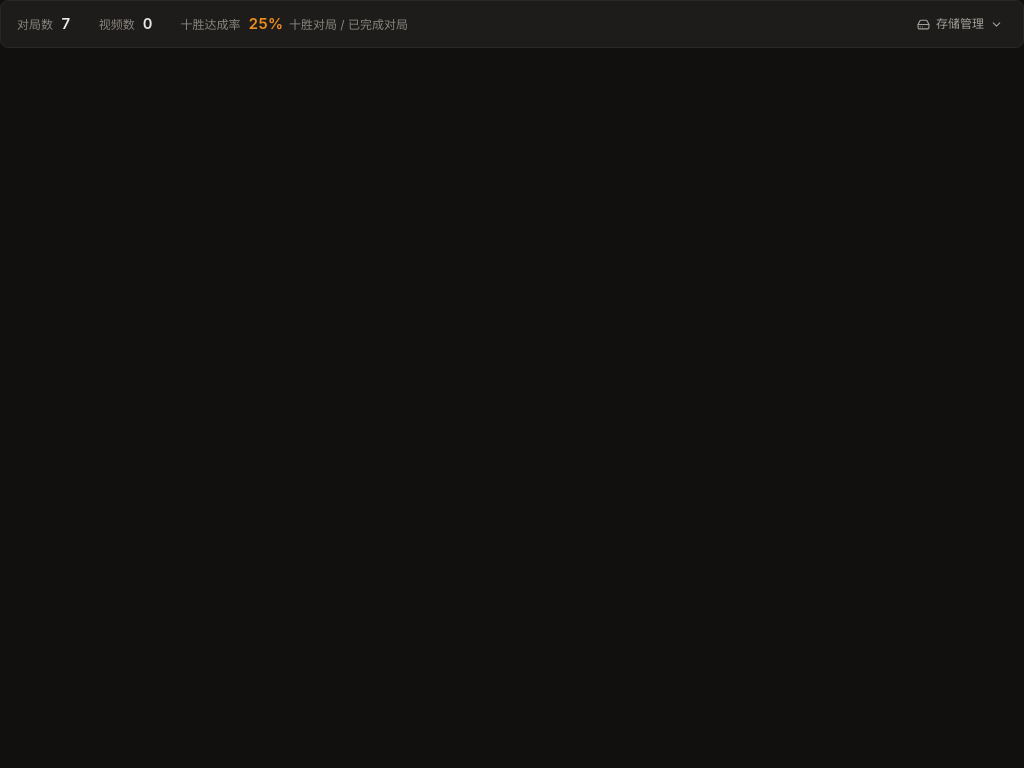
Scenario: history overview › previews the selected scope and range before any deletion can occur
Click the button "存储管理": (960, 24) [907, 11, 1013, 37]
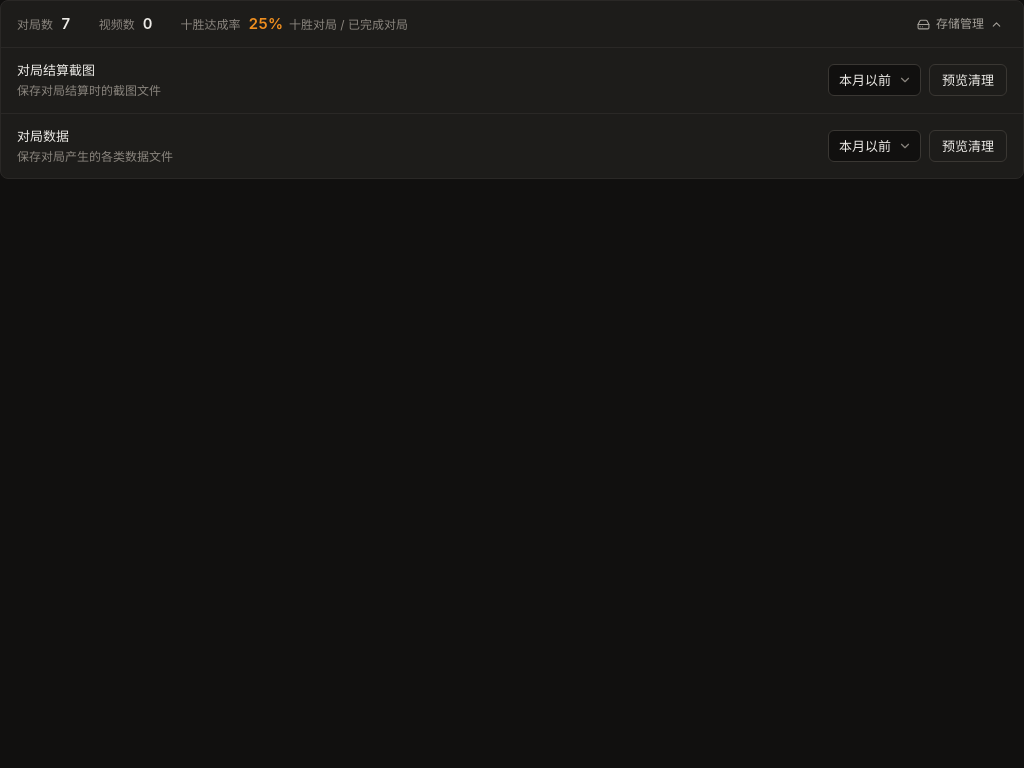
Select "7 天前" in the dropdown named "对局结算截图的清理时间范围": (874, 80) [828, 64, 921, 96]
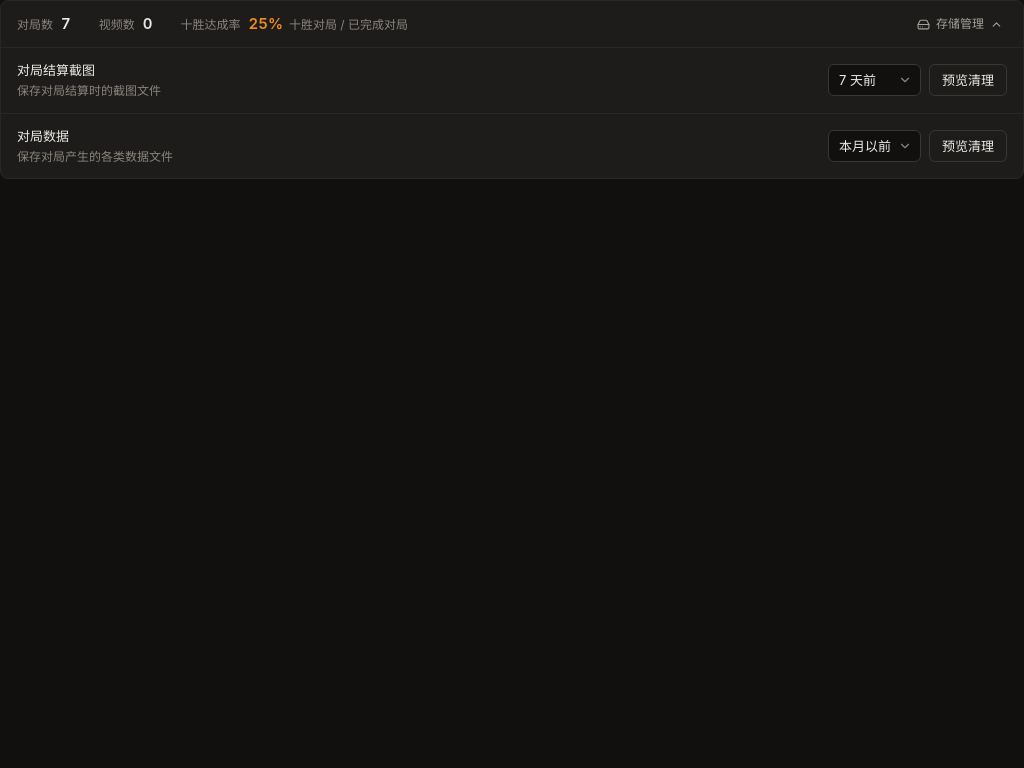
Click the button with aria-label "预览清理对局结算截图": (968, 80) [929, 64, 1007, 96]
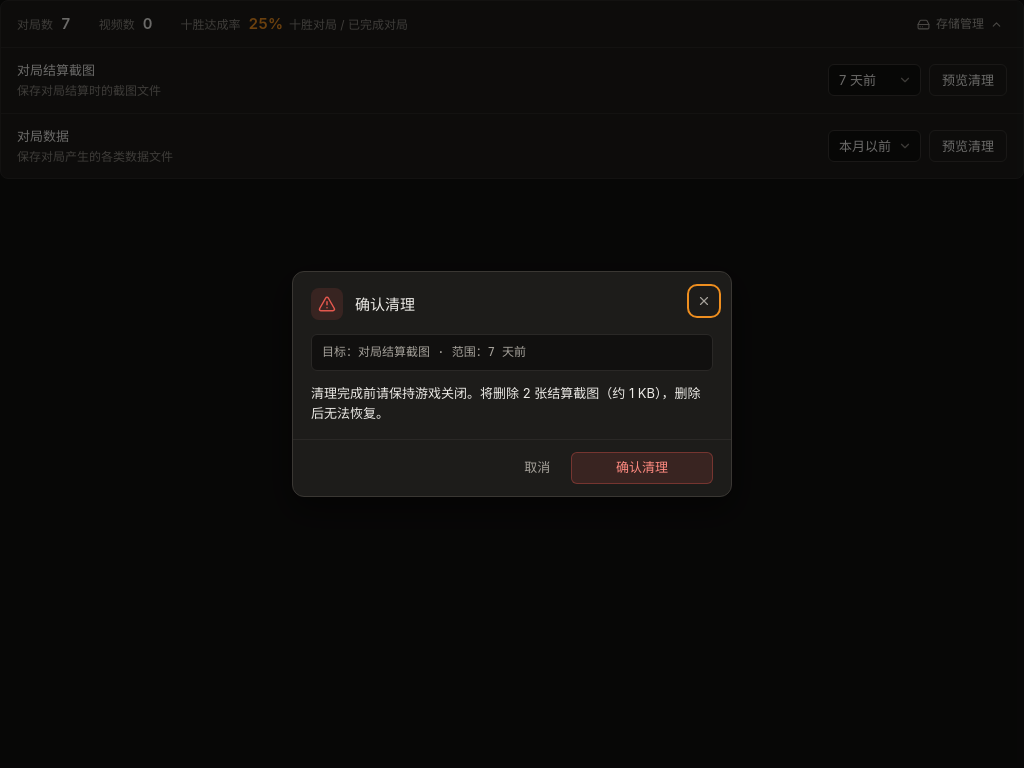
Expected: the dialog shows "对局结算截图", [322, 345, 526, 359]
Expected: the dialog shows "7 天前", [322, 345, 526, 359]
Expected: the dialog shows "2", [311, 385, 701, 421]
Click the button "取消": (537, 468) [511, 452, 563, 484]
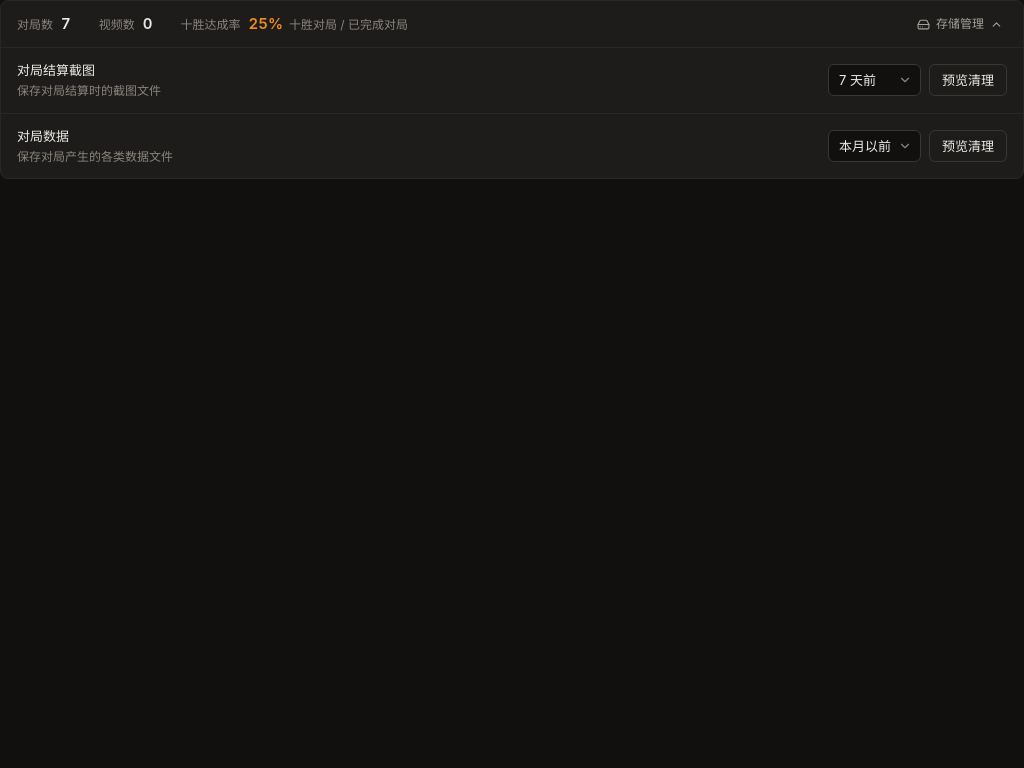
Expected: the dialog is gone
